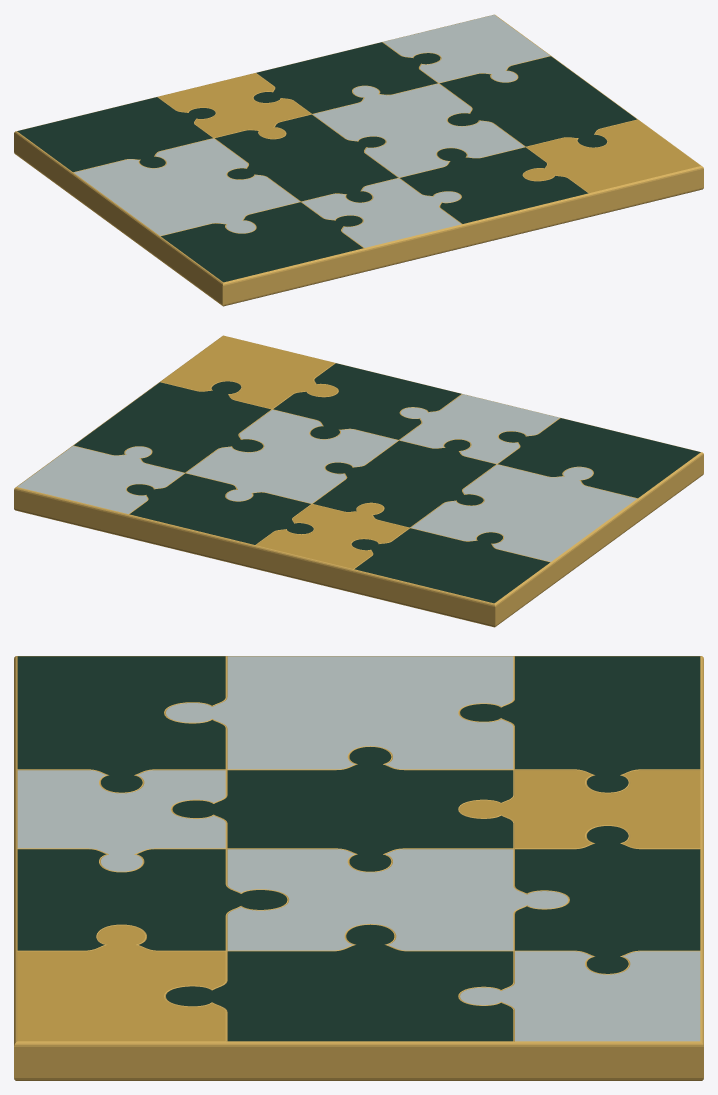
The model's file is puzzle.glb.
3 renders of one model, top to bottom at view 1: azimuth 30°, elevation 25°; view 2: azimuth 150°, elevation 25°; view 3: azimuth 270°, elevation 25°, orthographic. The views are drawn at different scales.
Visible parts, largest first — view 1: piece_r2c1_polished_steel, piece_r1c1_emerald_metal, piece_r1c3_emerald_metal, piece_r2c4_emerald_metal, piece_r2c3_polished_steel, piece_r3c1_emerald_metal, piece_r1c4_brushed_brass, piece_r2c2_emerald_metal, piece_r1c2_polished_steel, piece_r3c3_emerald_metal, piece_r3c4_polished_steel, piece_r3c2_brushed_brass; view 2: piece_r2c1_polished_steel, piece_r3c1_emerald_metal, piece_r3c3_emerald_metal, piece_r1c1_emerald_metal, piece_r2c4_emerald_metal, piece_r2c3_polished_steel, piece_r2c2_emerald_metal, piece_r3c4_polished_steel, piece_r1c3_emerald_metal, piece_r3c2_brushed_brass, piece_r1c4_brushed_brass, piece_r1c2_polished_steel; view 3: piece_r2c4_emerald_metal, piece_r2c1_polished_steel, piece_r1c4_brushed_brass, piece_r2c3_polished_steel, piece_r3c4_polished_steel, piece_r2c2_emerald_metal, piece_r1c1_emerald_metal, piece_r3c1_emerald_metal, piece_r1c3_emerald_metal, piece_r3c3_emerald_metal, piece_r1c2_polished_steel, piece_r3c2_brushed_brass.
Part boxes in pixels (x1=…): piece_r2c1_polished_steel: x1=70, y1=138, x2=300, y2=259; piece_r1c1_emerald_metal: x1=157, y1=202, x2=366, y2=306; piece_r1c3_emerald_metal: x1=399, y1=147, x2=590, y2=247; piece_r2c4_emerald_metal: x1=439, y1=56, x2=637, y2=147; piece_r2c3_polished_steel: x1=312, y1=83, x2=525, y2=177; piece_r3c1_emerald_metal: x1=14, y1=97, x2=216, y2=195; piece_r1c4_brushed_brass: x1=523, y1=119, x2=703, y2=216; piece_r2c2_emerald_metal: x1=214, y1=114, x2=398, y2=202; piece_r1c2_polished_steel: x1=301, y1=178, x2=464, y2=271; piece_r3c3_emerald_metal: x1=253, y1=42, x2=440, y2=114; piece_r3c4_polished_steel: x1=382, y1=14, x2=550, y2=83; piece_r3c2_brushed_brass: x1=157, y1=73, x2=311, y2=139; piece_r2c1_polished_steel: x1=410, y1=464, x2=640, y2=585; piece_r3c1_emerald_metal: x1=351, y1=528, x2=553, y2=627; piece_r3c3_emerald_metal: x1=126, y1=473, x2=314, y2=568; piece_r1c1_emerald_metal: x1=497, y1=418, x2=703, y2=521; piece_r2c4_emerald_metal: x1=73, y1=381, x2=271, y2=472; piece_r2c3_polished_steel: x1=185, y1=409, x2=398, y2=503; piece_r2c2_emerald_metal: x1=312, y1=439, x2=496, y2=527; piece_r3c4_polished_steel: x1=14, y1=445, x2=184, y2=537; piece_r1c3_emerald_metal: x1=272, y1=363, x2=461, y2=440; piece_r3c2_brushed_brass: x1=253, y1=503, x2=409, y2=592; piece_r1c4_brushed_brass: x1=160, y1=335, x2=338, y2=409; piece_r1c2_polished_steel: x1=399, y1=394, x2=560, y2=464; piece_r2c4_emerald_metal: x1=165, y1=924, x2=516, y2=1080; piece_r2c1_polished_steel: x1=165, y1=656, x2=514, y2=769; piece_r1c4_brushed_brass: x1=14, y1=925, x2=229, y2=1080; piece_r2c3_polished_steel: x1=226, y1=849, x2=568, y2=951; piece_r3c4_polished_steel: x1=459, y1=951, x2=703, y2=1080; piece_r2c2_emerald_metal: x1=171, y1=746, x2=513, y2=872; piece_r1c1_emerald_metal: x1=14, y1=656, x2=227, y2=793; piece_r3c1_emerald_metal: x1=459, y1=656, x2=703, y2=793; piece_r1c3_emerald_metal: x1=14, y1=849, x2=288, y2=953; piece_r3c3_emerald_metal: x1=514, y1=826, x2=703, y2=974; piece_r1c2_polished_steel: x1=14, y1=770, x2=226, y2=872; piece_r3c2_brushed_brass: x1=459, y1=770, x2=703, y2=852.
Size of the model in its own units: 4.02 by 0.19 by 3.02.
